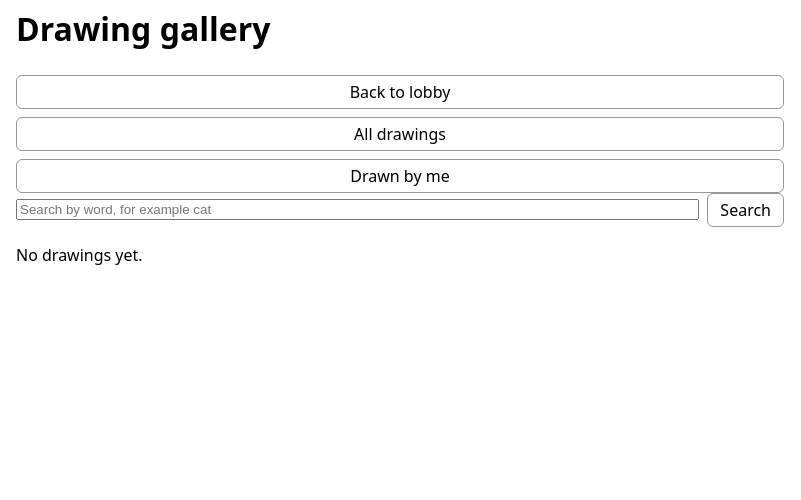
Test: Gallery › lists my drawings with their status, from the author filter
Expected: the text "No drawings yet." is shown, top-left (16, 244), bottom-right (143, 266)
What coordinates should you click on to do the following:
click the button "Drawn by me"
I would click on:
 (400, 176)
Its box is top-left (16, 159), bottom-right (784, 193).
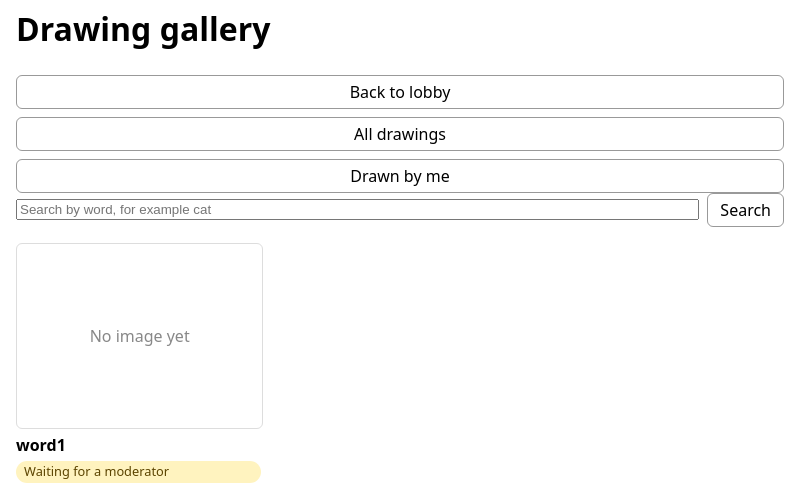
Result: the text "Waiting for a moderator" is shown at top-left (16, 461), bottom-right (261, 483)
Result: the text "No image yet" is shown at top-left (16, 243), bottom-right (263, 429)
